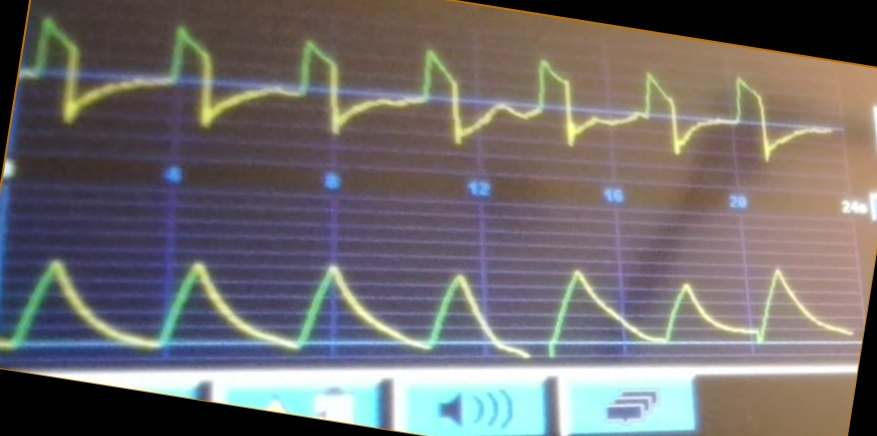Ineffective_effort Flow: (29, 13, 829, 164)
Ineffective_effort Volume: (2, 252, 853, 353)
